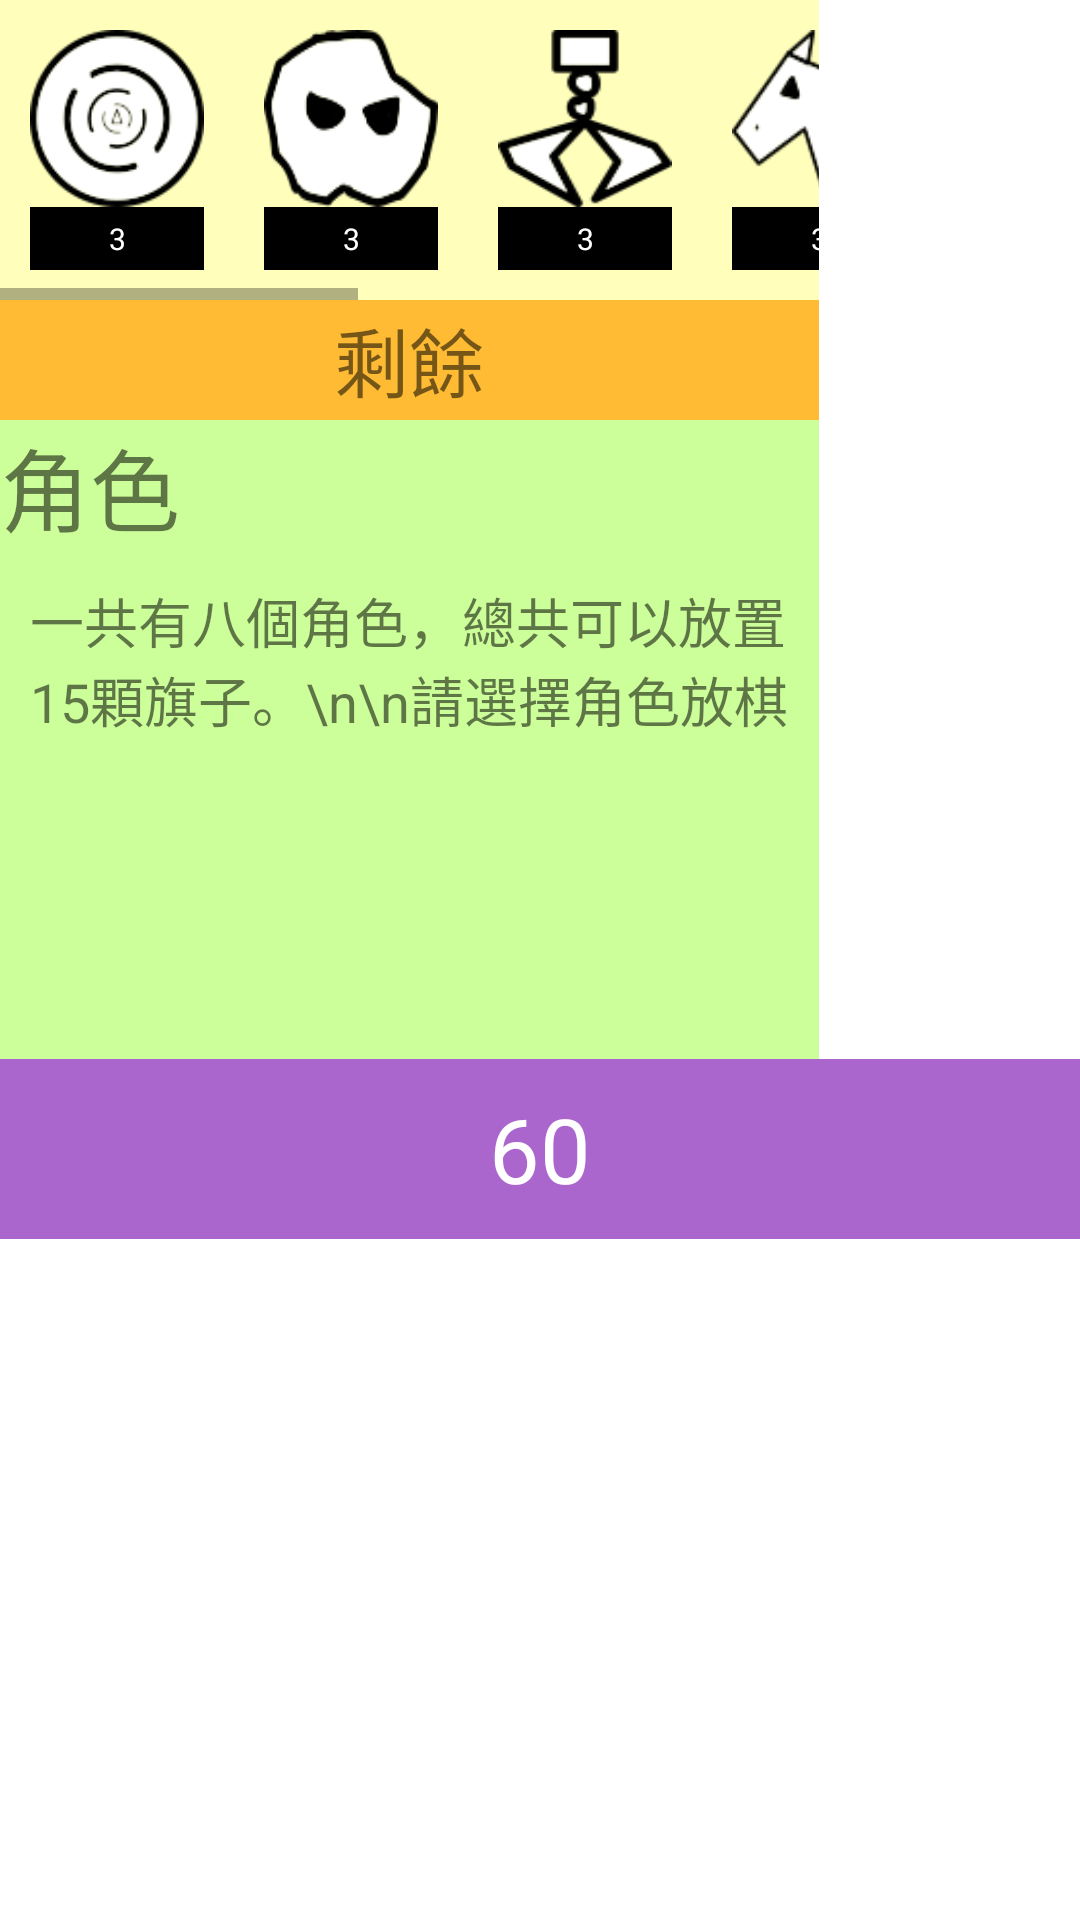

Where icons sit on this 1080*1920 app screen, as [x1=x1, y1=y1, x2=x2, y2=y2]:
clip: [x1=498, y1=30, x2=672, y2=207]
rock: [x1=264, y1=30, x2=438, y2=207]
